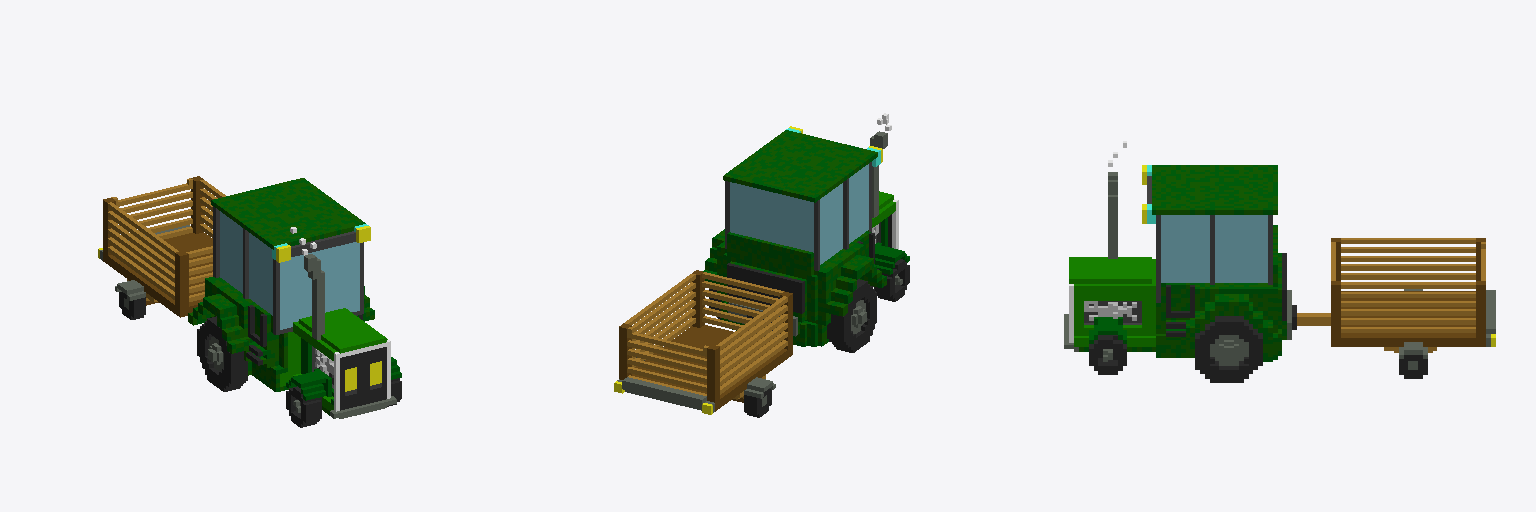
3 renders of one model, left to right at view 1: azimuth 30°, elevation 25°; view 2: azimuth 150°, elevation 25°; view 3: azimuth 270°, elevation 25°, orthographic.
Visible parts, largest first — view 1: object 1; view 2: object 1; view 3: object 1.
Boxes of the visible parts, x1,y1,x2,y2 form: object 1: [98, 176, 401, 427]; object 1: [614, 113, 909, 417]; object 1: [1064, 141, 1495, 382].
Size of the model in its own units: 3.4 by 4.3 by 8.9.
Materials: 1 (1 with a texture image).